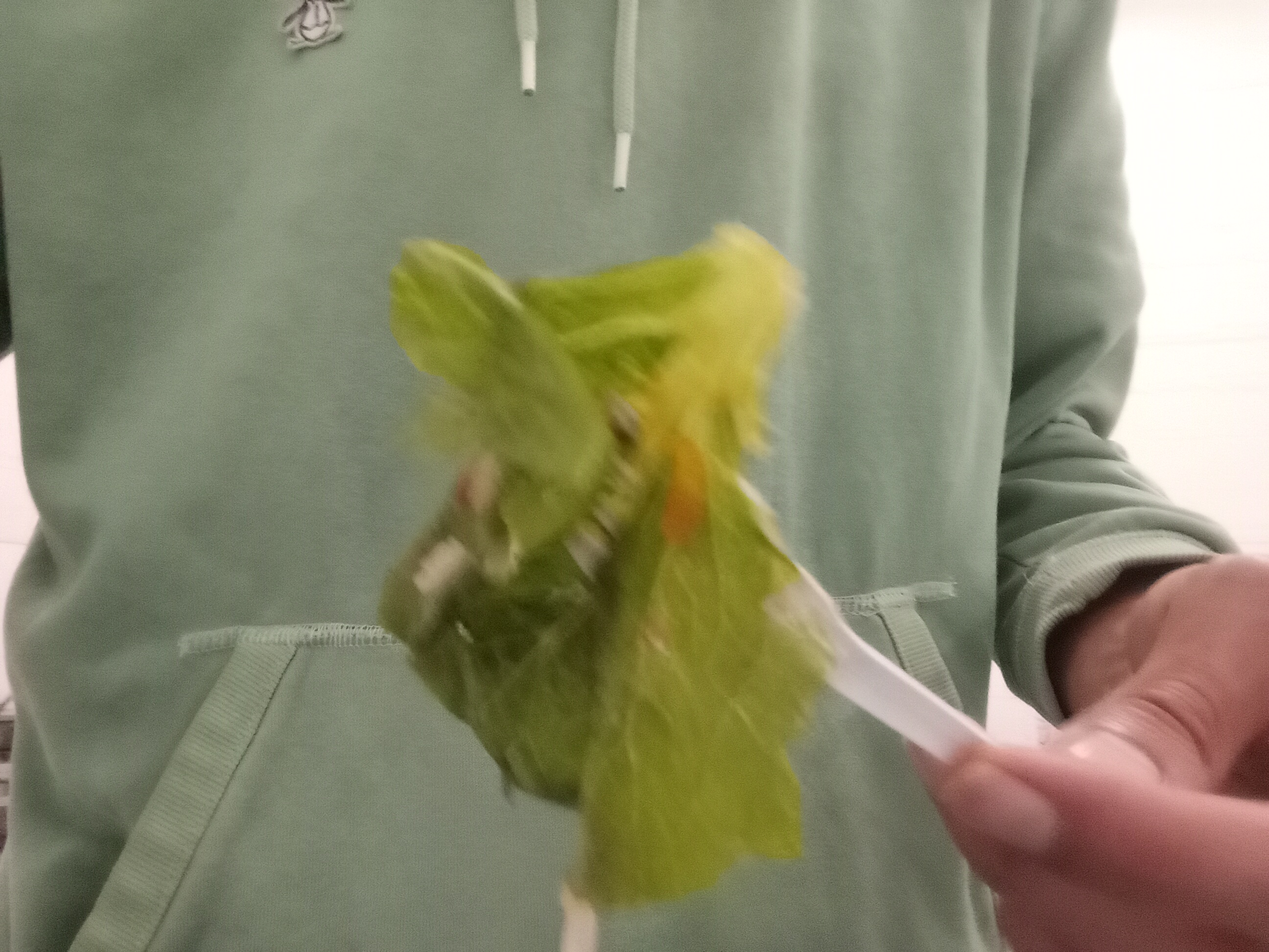Organico: (376, 222, 842, 907)
